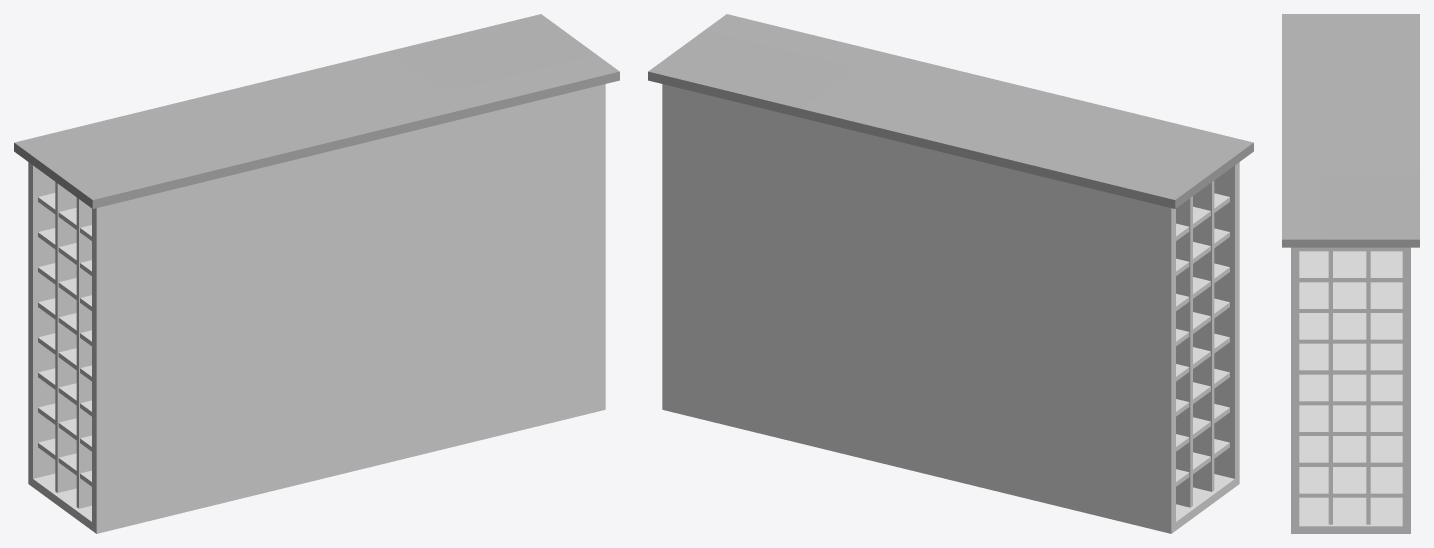
Rendered from kitchen_item_001.glb.
3 renders of one model, left to right at view 1: azimuth 30°, elevation 25°; view 2: azimuth 150°, elevation 25°; view 3: azimuth 270°, elevation 25°, orthographic. The views are drawn at different scales.
Visible parts, largest first — view 1: kitchen_item_001; view 2: kitchen_item_001; view 3: kitchen_item_001.
Boxes of the visible parts, box(x1,y1,x2,y2) form: kitchen_item_001: box(14, 14, 619, 533); kitchen_item_001: box(648, 14, 1253, 533); kitchen_item_001: box(1282, 14, 1419, 533).
Bounding box in the file's own units: 1.59 × 0.9768 × 0.4096.
Materials: 1 (1 with a texture image).
